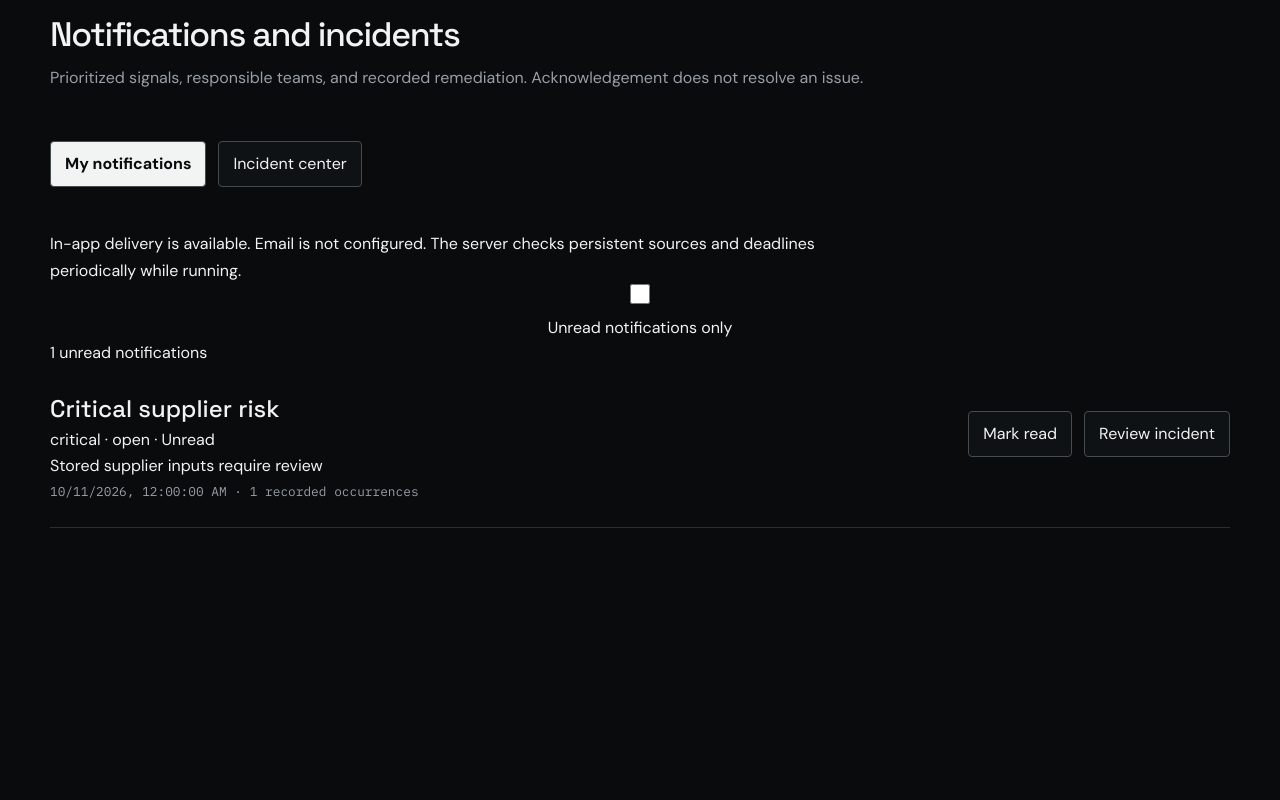
Test case: keeps auditor views read-only
What coordinates should you click on to do the following:
click the button with aria-label "Review incident 1"
I would click on:
 (1157, 434)
Its box is [1084,411,1230,457].
(page scrolled)
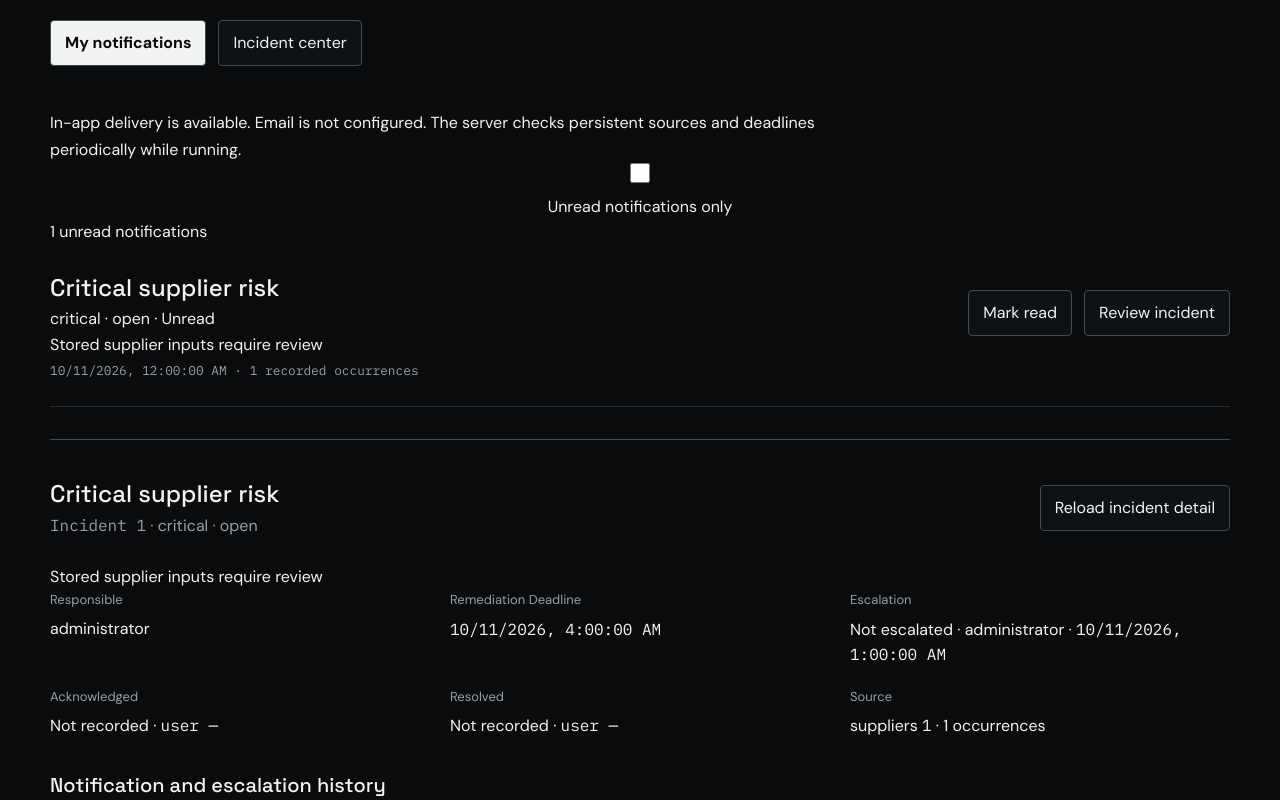
Expected: the element "incident detail" is shown, [50,439,1230,799]
